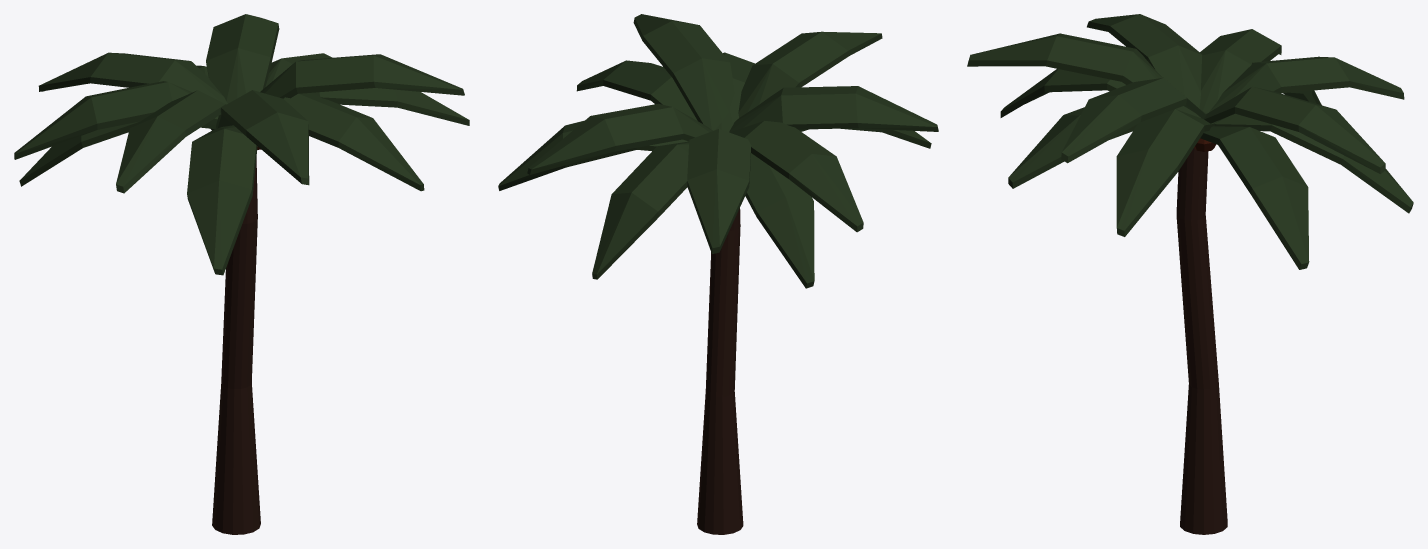
The model's file is 야자수.fbx.
3 views of the same model, side by side, from view 1: azimuth 30°, elevation 25°; view 2: azimuth 150°, elevation 25°; view 3: azimuth 270°, elevation 25° (orthographic). The views are drawn at different scales.
Visible parts, largest first — view 1: Box002; view 2: Box002; view 3: Box002.
Part boxes in pixels (x1=…): Box002: x1=14, y1=14, x2=469, y2=534; Box002: x1=498, y1=14, x2=938, y2=534; Box002: x1=967, y1=14, x2=1413, y2=534.
Size of the model in its own units: 149 by 180 by 153.
